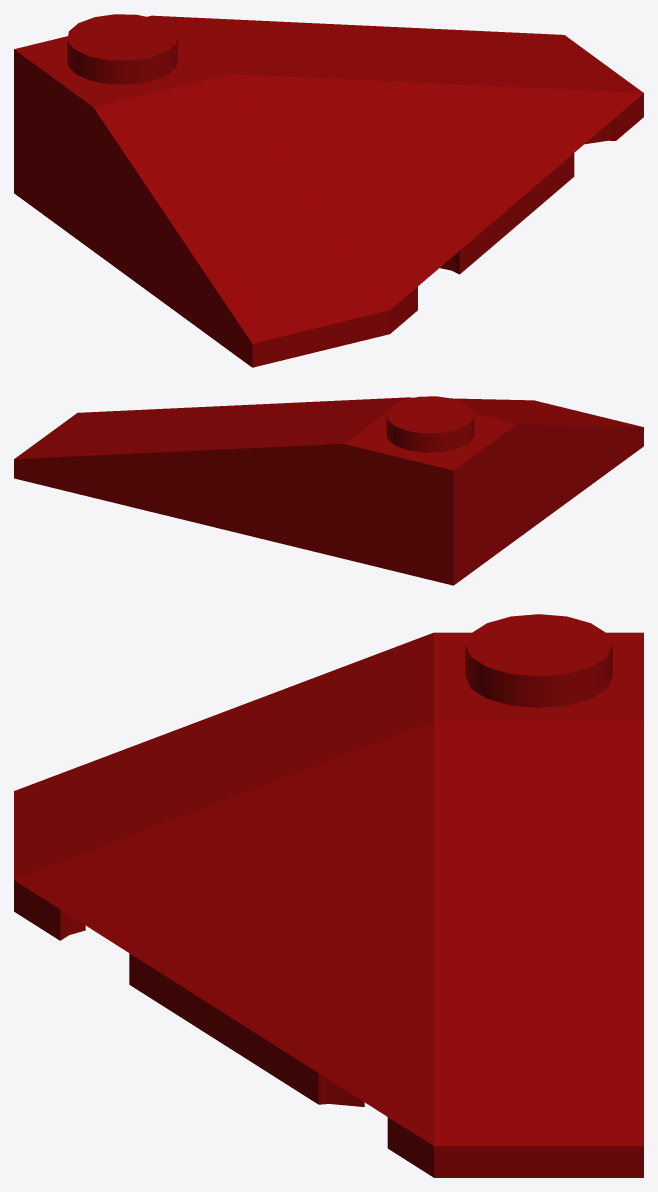
File: SM_CornerRamp_4x3x1_R.gltf
3 views of the same model, one above another, from view 1: azimuth 30°, elevation 25°; view 2: azimuth 150°, elevation 25°; view 3: azimuth 270°, elevation 25° (orthographic). The views are drawn at different scales.
Visible parts, largest first — view 1: SM_CornerRamp_4x3x1_R; view 2: SM_CornerRamp_4x3x1_R; view 3: SM_CornerRamp_4x3x1_R.
Boxes of the visible parts, x1=… form: SM_CornerRamp_4x3x1_R: x1=14, y1=14, x2=643, y2=367; SM_CornerRamp_4x3x1_R: x1=14, y1=396, x2=643, y2=585; SM_CornerRamp_4x3x1_R: x1=14, y1=614, x2=643, y2=1177.
Size of the model in its own units: 1.2 by 0.35 by 0.9.
